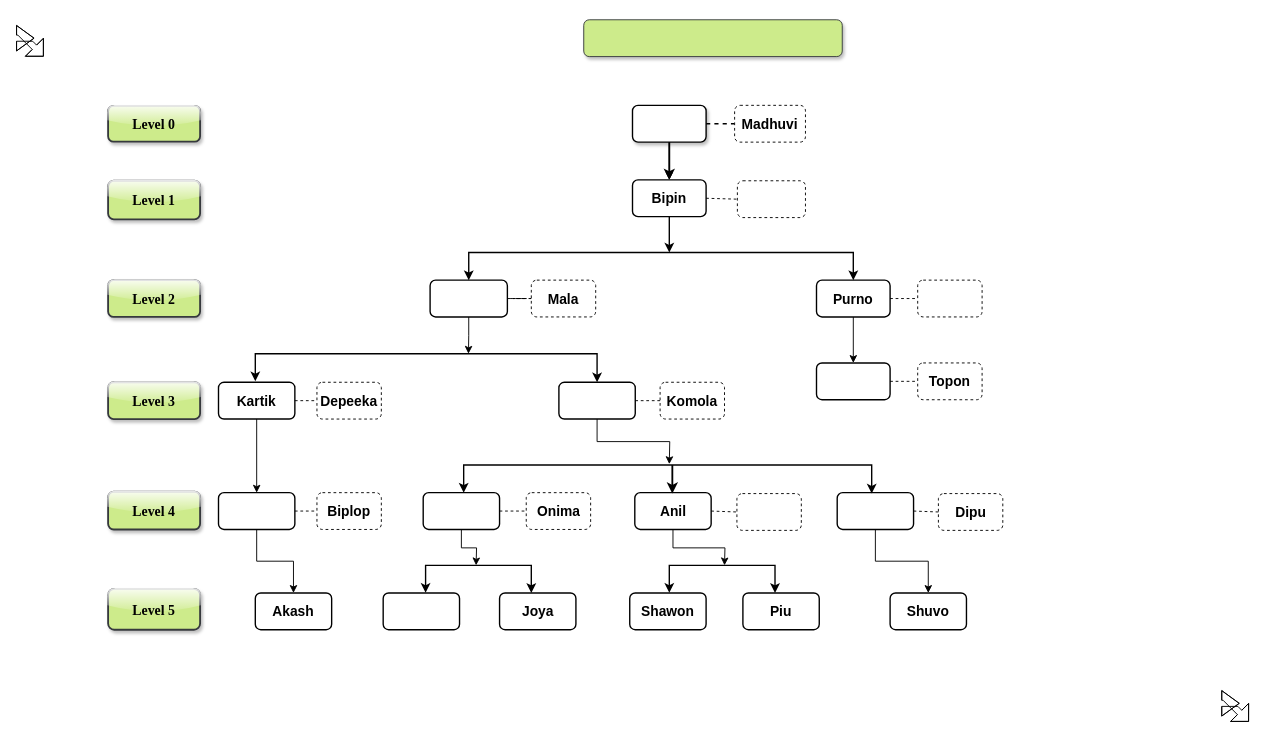
This 1265x738 diagram has some shape labels left out. The shapes that lost their labels are listed below. From the top down, each one's centre as x and y in pixels, then its label:
At (x=713, y=39): "Family Relationship Tree".
At (x=670, y=125): "Debashish".
At (x=770, y=199): "Purnima".
At (x=468, y=298): "Gobindro".
At (x=949, y=298): "Gautam".
At (x=597, y=400): "Gupinad".
At (x=852, y=381): "Mona".
At (x=256, y=511): "Riya".
At (x=461, y=511): "Ajit".
At (x=768, y=511): "Chandana".
At (x=875, y=511): "Khusi".
At (x=421, y=611): "Avijit".
